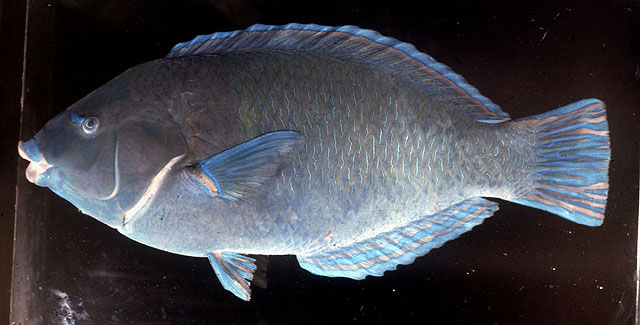fish: (19, 22, 612, 300)
